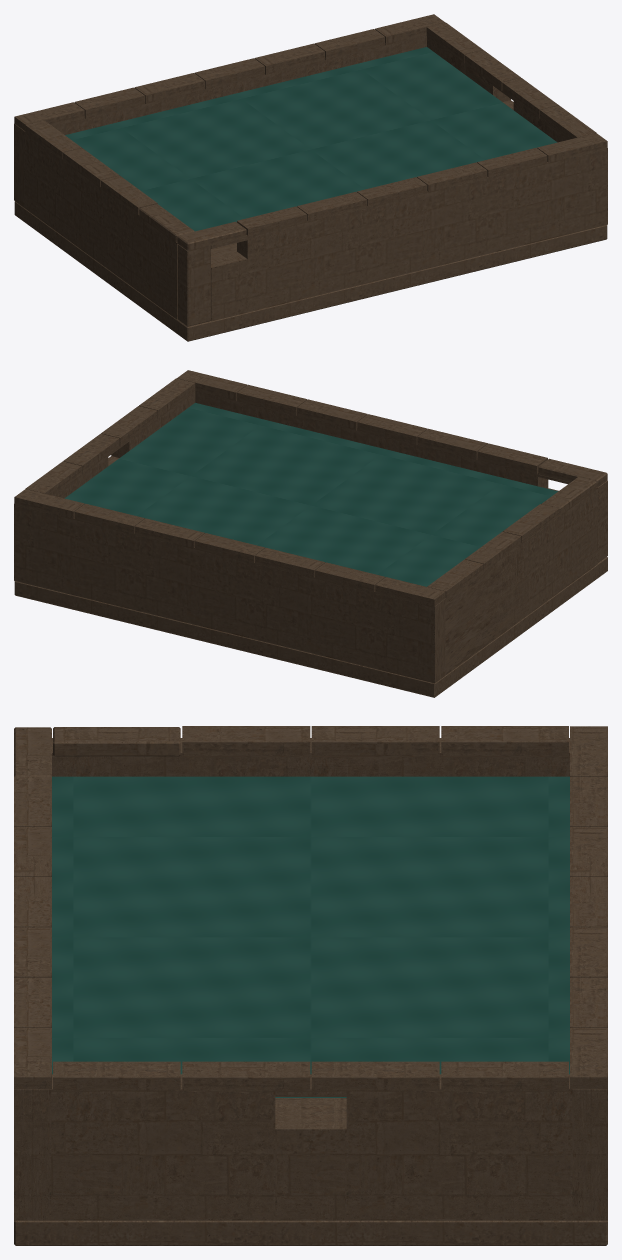
The model's file is d_cooling_pond.glb.
The picture shows the model from 3 angles, top to bottom: view 1: azimuth 30°, elevation 25°; view 2: azimuth 150°, elevation 25°; view 3: azimuth 270°, elevation 25°; orthographic projection. The views are drawn at different scales.
Visible parts, largest first — view 1: basin foundation, WaterSurface, ported retaining wall-colonly.005, ported retaining wall-colonly.001, ported retaining wall-colonly.007, long coping block-colonly.002, long coping block-colonly.003, long coping block-colonly.006, short coping block-colonly.004, ported retaining wall-colonly.004, long coping block-colonly.004, long coping block-colonly.012 (+4 smaller); view 2: basin foundation, WaterSurface, ported retaining wall-colonly.004, ported retaining wall-colonly.005, long coping block-colonly.008, long coping block-colonly.007, long coping block-colonly.009, long coping block-colonly.005, short coping block-colonly.003, long coping block-colonly.013, long coping block-colonly.002, long coping block-colonly.003; view 3: basin foundation, WaterSurface, ported retaining wall-colonly.007, ported retaining wall-colonly.006, ported retaining wall-colonly.004, ported retaining wall-colonly.005, ported retaining wall-colonly.001, ported retaining wall-colonly.008, short coping block-colonly.006, short coping block-colonly.005, short coping block-colonly.004, short coping block-colonly.007 (+9 smaller).
Boxes of the visible parts, bbox=[...] form: basin foundation: bbox=[14, 15, 607, 341]; WaterSurface: bbox=[65, 47, 557, 231]; ported retaining wall-colonly.005: bbox=[14, 36, 426, 207]; ported retaining wall-colonly.001: bbox=[237, 148, 607, 312]; ported retaining wall-colonly.007: bbox=[427, 36, 510, 101]; long coping block-colonly.002: bbox=[297, 192, 367, 222]; long coping block-colonly.003: bbox=[357, 177, 427, 206]; long coping block-colonly.006: bbox=[537, 133, 607, 162]; short coping block-colonly.004: bbox=[540, 105, 596, 139]; ported retaining wall-colonly.004: bbox=[24, 131, 177, 319]; long coping block-colonly.004: bbox=[417, 162, 487, 192]; long coping block-colonly.012: bbox=[314, 29, 384, 59]; basin foundation: bbox=[14, 370, 607, 697]; WaterSurface: bbox=[64, 402, 557, 586]; ported retaining wall-colonly.004: bbox=[445, 487, 597, 675]; ported retaining wall-colonly.005: bbox=[14, 504, 445, 683]; long coping block-colonly.008: bbox=[315, 562, 385, 593]; long coping block-colonly.007: bbox=[375, 577, 445, 608]; long coping block-colonly.009: bbox=[255, 547, 325, 578]; long coping block-colonly.005: bbox=[237, 384, 307, 415]; short coping block-colonly.003: bbox=[427, 559, 483, 598]; long coping block-colonly.013: bbox=[14, 489, 84, 519]; long coping block-colonly.002: bbox=[417, 428, 487, 459]; long coping block-colonly.003: bbox=[357, 414, 427, 445]; basin foundation: bbox=[14, 727, 607, 1245]; WaterSurface: bbox=[52, 776, 569, 1097]; ported retaining wall-colonly.007: bbox=[346, 1074, 572, 1220]; ported retaining wall-colonly.006: bbox=[49, 1074, 275, 1220]; ported retaining wall-colonly.004: bbox=[52, 738, 569, 776]; ported retaining wall-colonly.005: bbox=[572, 1089, 607, 1220]; ported retaining wall-colonly.001: bbox=[14, 1089, 49, 1220]; ported retaining wall-colonly.008: bbox=[275, 1114, 346, 1220]; short coping block-colonly.006: bbox=[311, 1061, 439, 1092]; short coping block-colonly.005: bbox=[182, 1061, 310, 1092]; short coping block-colonly.004: bbox=[53, 1061, 180, 1092]; short coping block-colonly.007: bbox=[441, 1061, 568, 1092].
Size of what is drawn, in the model's own units: 7 by 1.57 by 5.
Materials: 2 (2 with a texture image).
